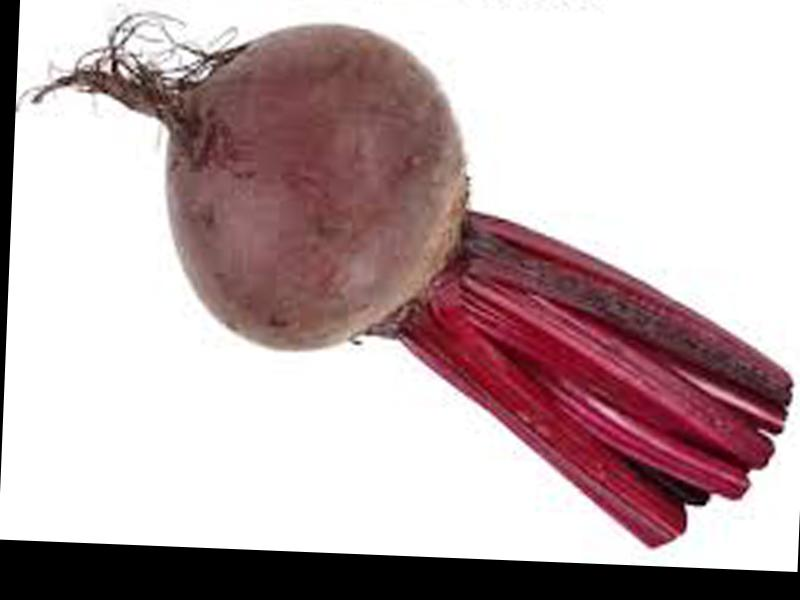Beet: (14, 15, 800, 549)
